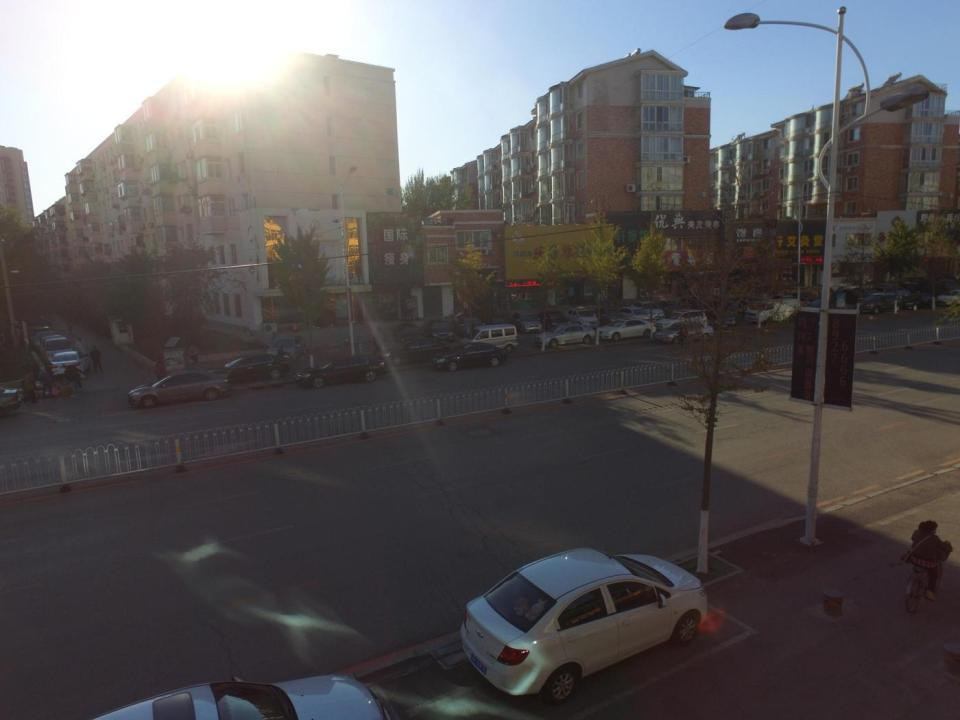car: (460, 545, 713, 704), (127, 368, 231, 408), (296, 355, 390, 387), (206, 355, 293, 386), (376, 338, 456, 368), (431, 342, 508, 370), (532, 323, 599, 348), (655, 308, 711, 337), (597, 317, 659, 341), (265, 332, 307, 367), (655, 322, 715, 346), (858, 292, 906, 318), (39, 334, 76, 366), (47, 351, 93, 375), (709, 305, 745, 335), (853, 281, 888, 309), (616, 305, 658, 327), (508, 310, 544, 335), (566, 306, 603, 330), (455, 314, 489, 340), (837, 285, 872, 310), (628, 299, 666, 322), (27, 317, 56, 347), (898, 291, 936, 313), (394, 320, 426, 346), (769, 291, 801, 317), (594, 306, 628, 330), (658, 298, 694, 320), (804, 299, 841, 320), (539, 308, 571, 332), (426, 318, 455, 344), (33, 330, 64, 354), (480, 314, 512, 335), (881, 280, 911, 302), (903, 278, 931, 299), (872, 282, 899, 302), (938, 287, 960, 307)
van: (462, 323, 520, 354), (745, 298, 804, 328)
